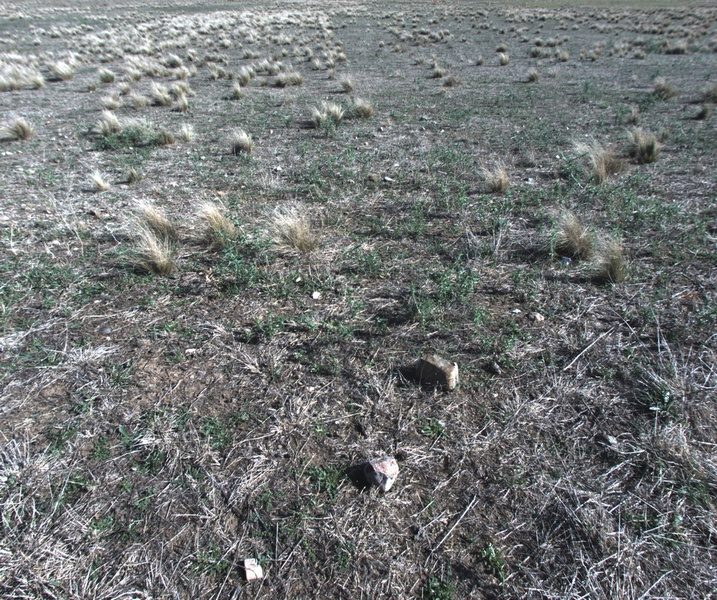st: (267, 199, 330, 260), (193, 198, 246, 259), (134, 229, 178, 282), (552, 208, 588, 266), (128, 199, 179, 237), (593, 234, 626, 285), (627, 128, 664, 172), (578, 136, 609, 182), (476, 161, 510, 195), (1, 115, 38, 143), (225, 125, 257, 156), (152, 80, 186, 107), (310, 100, 342, 128), (650, 79, 679, 106), (95, 112, 120, 139), (275, 67, 303, 89), (90, 169, 114, 193), (237, 64, 261, 87), (52, 59, 75, 82), (20, 67, 44, 89), (347, 94, 367, 119), (127, 92, 153, 111), (101, 93, 123, 114), (177, 118, 194, 144), (207, 62, 229, 82), (228, 77, 245, 99), (335, 79, 355, 96), (125, 164, 139, 185), (97, 66, 114, 83), (529, 43, 546, 59), (555, 46, 570, 64), (429, 59, 443, 78), (527, 66, 541, 84), (114, 80, 128, 98), (497, 53, 510, 68), (494, 44, 510, 54)
